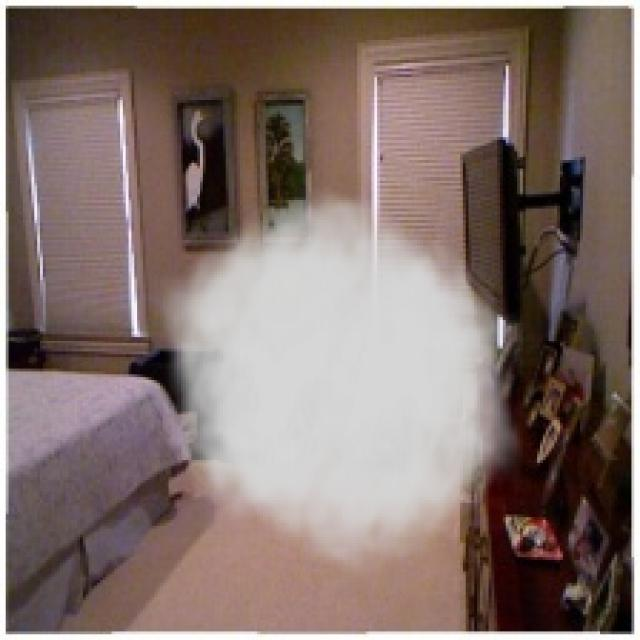smoke: (146, 177, 523, 583)
